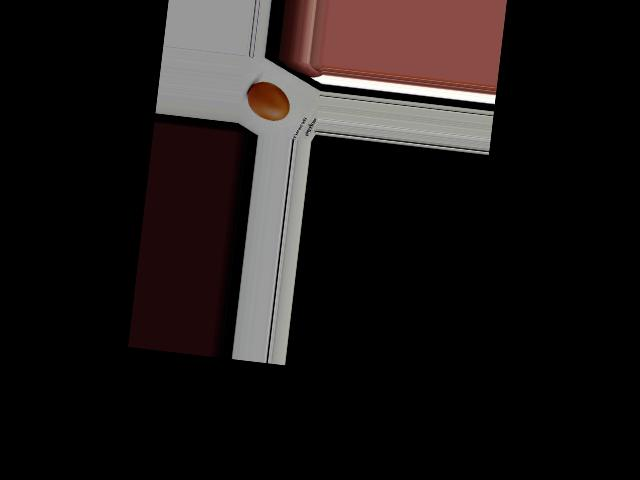egg: (244, 79, 292, 121)
